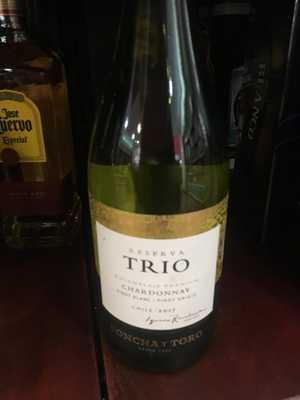trio chardonnay: (64, 49, 237, 371)
